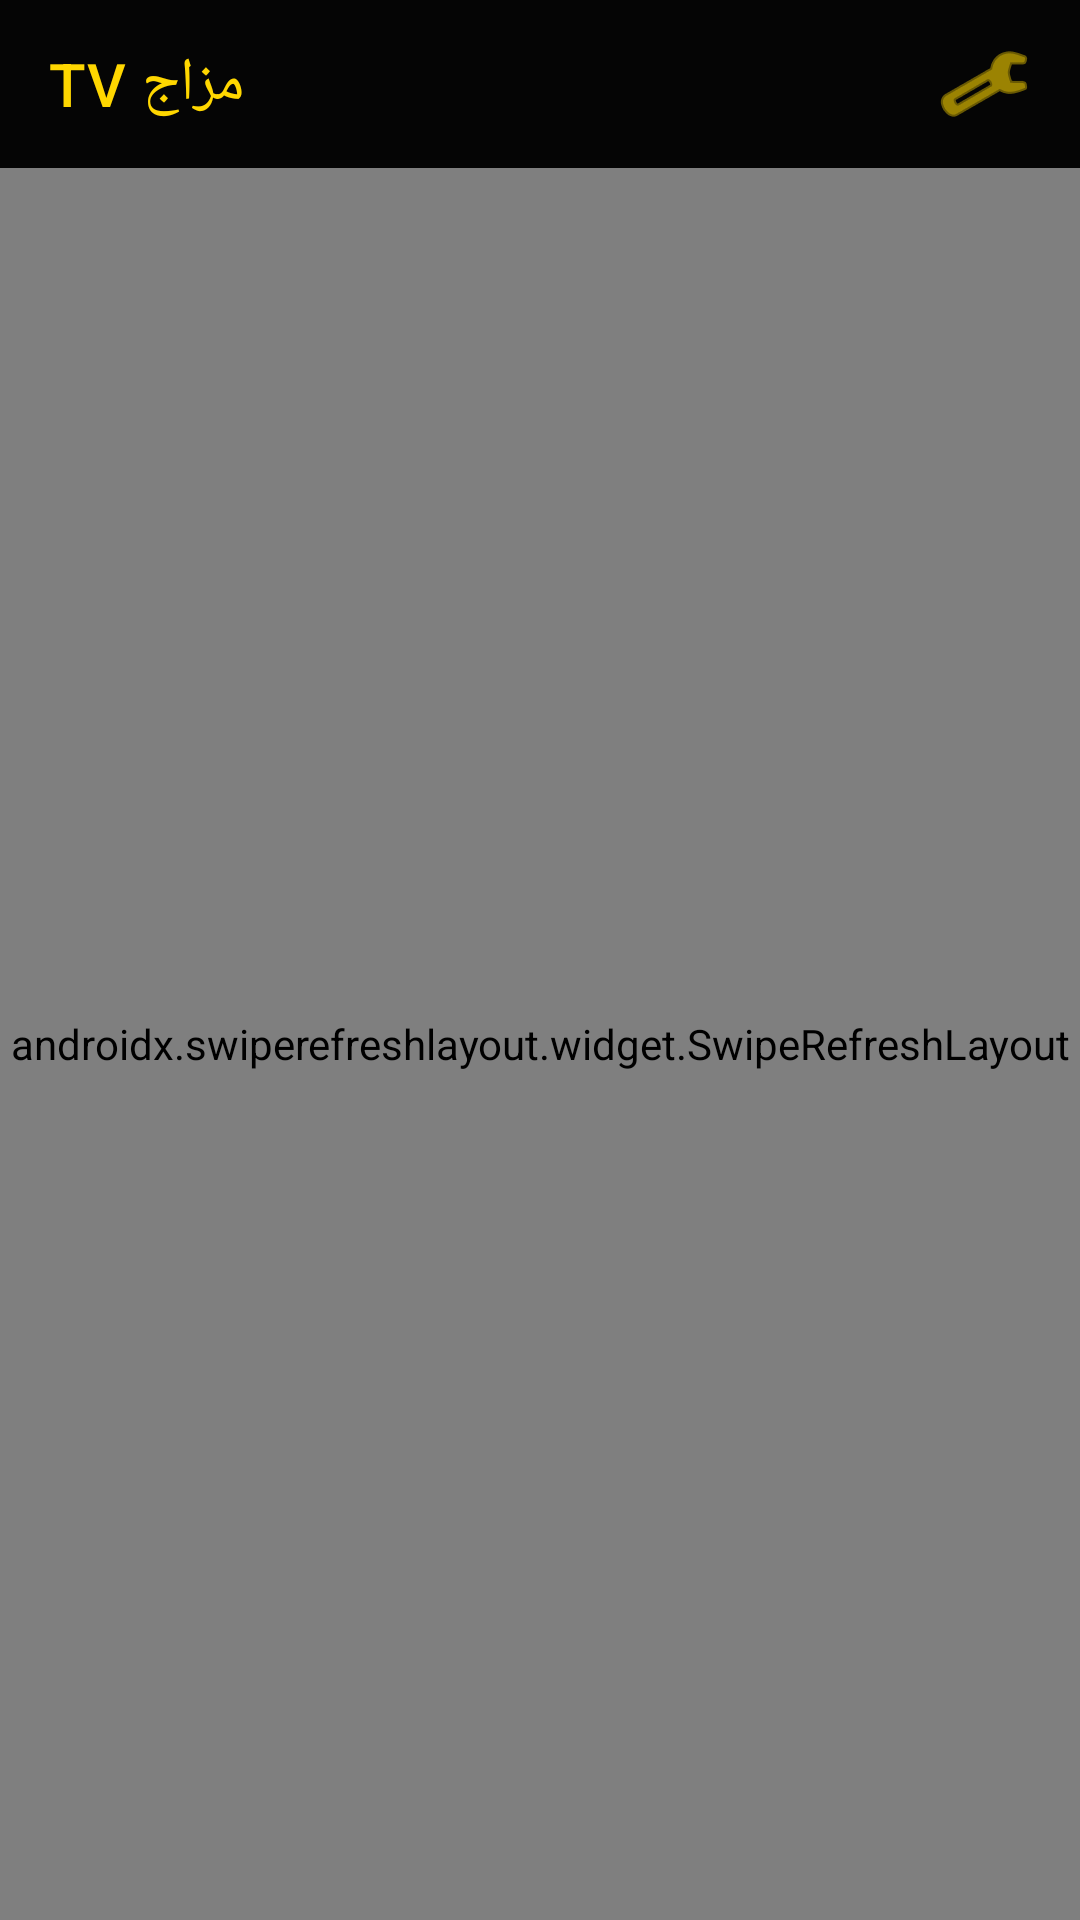

Where to tap for icons on this 1080x1920 app screen, as (x=x, y=y):
الإعدادات: (x=984, y=84)
